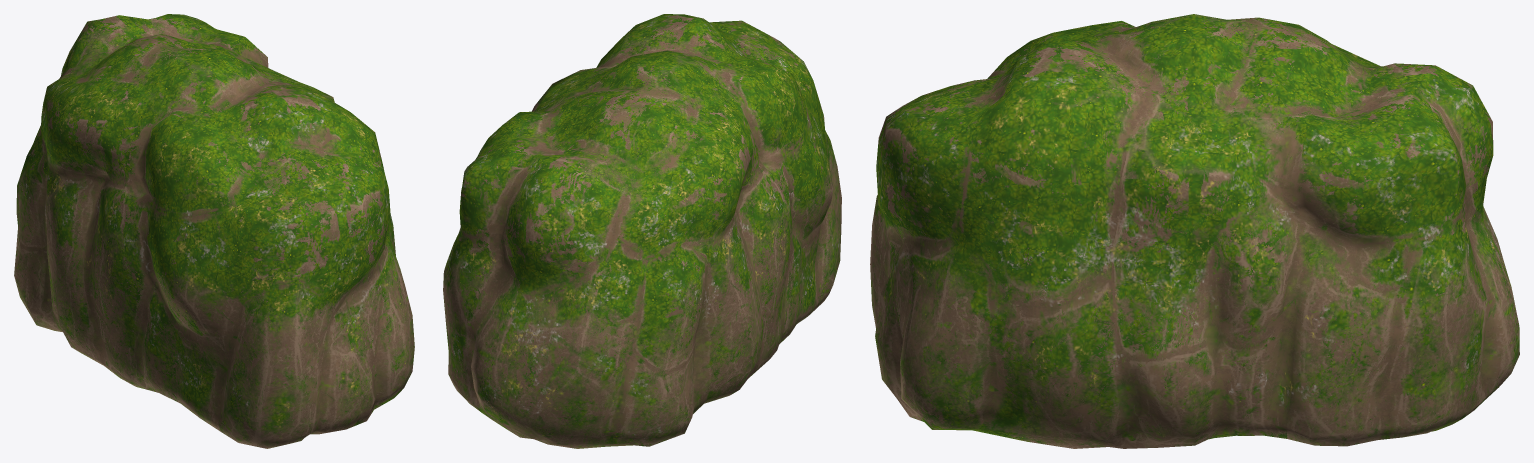
The model's file is sb_obj_nature007_Rock04d.fbx.
The picture shows the model from 3 angles, left to right: view 1: azimuth 30°, elevation 25°; view 2: azimuth 150°, elevation 25°; view 3: azimuth 270°, elevation 25°; orthographic projection. The views are drawn at different scales.
Visible parts, largest first — view 1: sb_obj_nature007_Rock04d; view 2: sb_obj_nature007_Rock04d; view 3: sb_obj_nature007_Rock04d.
Boxes of the visible parts, x1,y1,x2,y2 form: sb_obj_nature007_Rock04d: (14, 14, 414, 448); sb_obj_nature007_Rock04d: (443, 14, 841, 448); sb_obj_nature007_Rock04d: (870, 14, 1519, 448).
Size of the model in its own units: 3.23 by 3.52 by 5.46.
